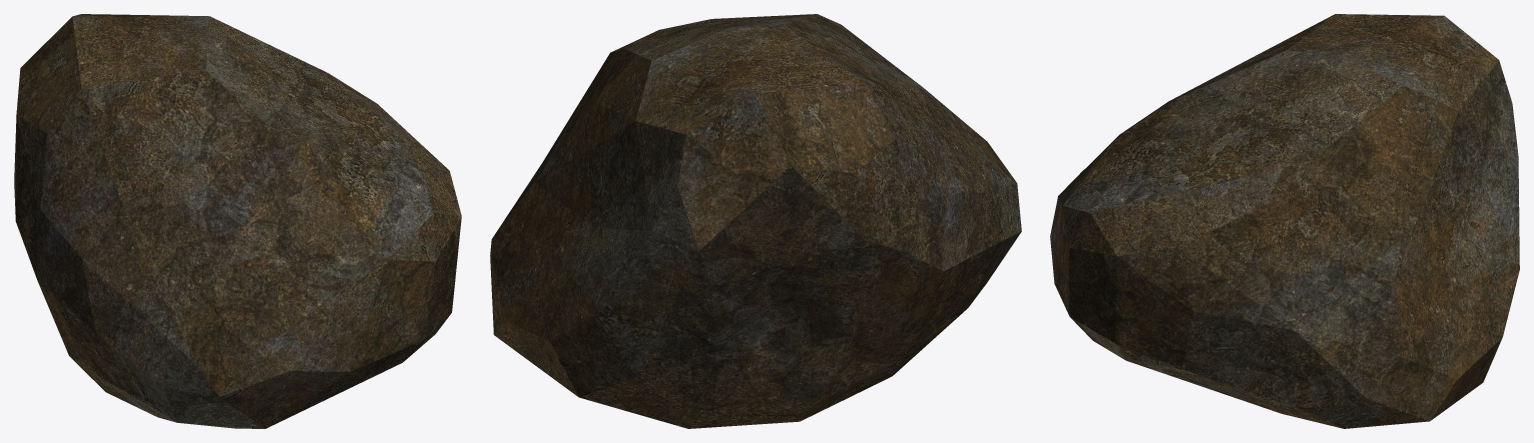
File: stone_3.obj
3 views of the same model, side by side, from view 1: azimuth 30°, elevation 25°; view 2: azimuth 150°, elevation 25°; view 3: azimuth 270°, elevation 25° (orthographic). The views are drawn at different scales.
Visible parts, largest first — view 1: stone_3; view 2: stone_3; view 3: stone_3.
Boxes of the visible parts, x1,y1,x2,y2 form: stone_3: (14, 14, 461, 428); stone_3: (490, 14, 1021, 428); stone_3: (1050, 14, 1519, 428).
Size of the model in its own units: 2.52 by 2.12 by 2.67.
